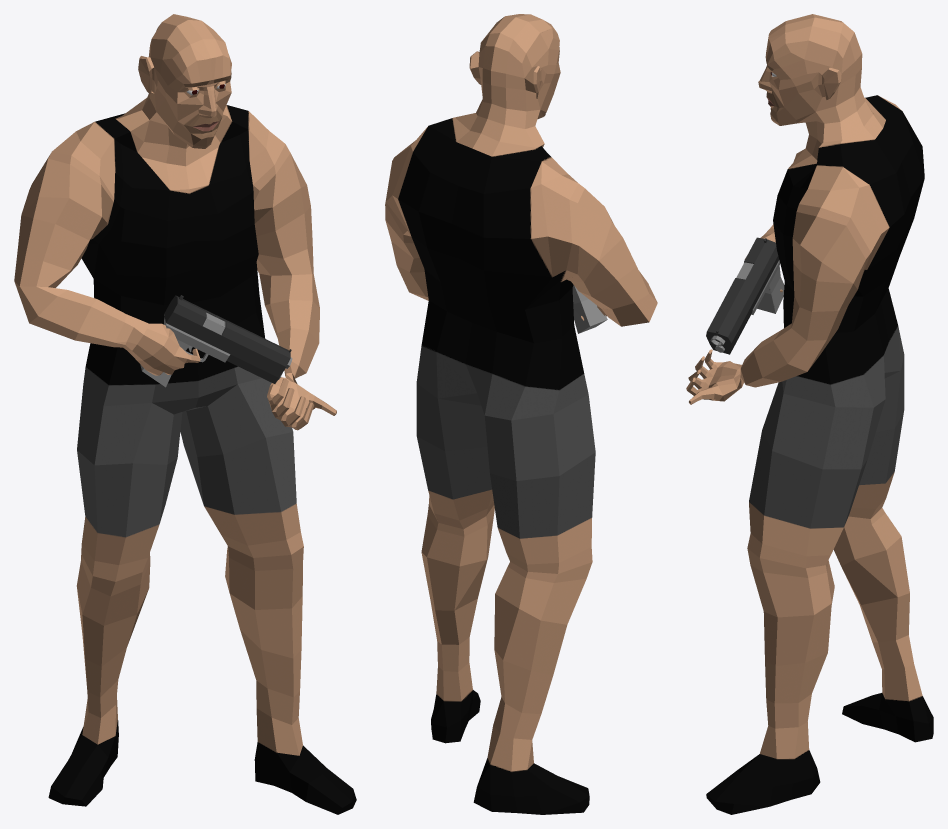
Rendered from PlayerIdle(9).obj.
The picture shows the model from 3 angles, left to right: view 1: azimuth 30°, elevation 25°; view 2: azimuth 150°, elevation 25°; view 3: azimuth 270°, elevation 25°; orthographic projection. The views are drawn at different scales.
Visible parts, largest first — view 1: Plane002, Box003; view 2: Plane002, Box003; view 3: Plane002, Box003.
Boxes of the visible parts, <box> form: Plane002: <box>14,14,356,814</box>; Box003: <box>140,295,292,387</box>; Plane002: <box>385,14,657,814</box>; Box003: <box>572,285,607,333</box>; Plane002: <box>686,14,933,814</box>; Box003: <box>706,237,784,354</box>.
Bounding box in the file's own units: 677 × 1807 × 548.
